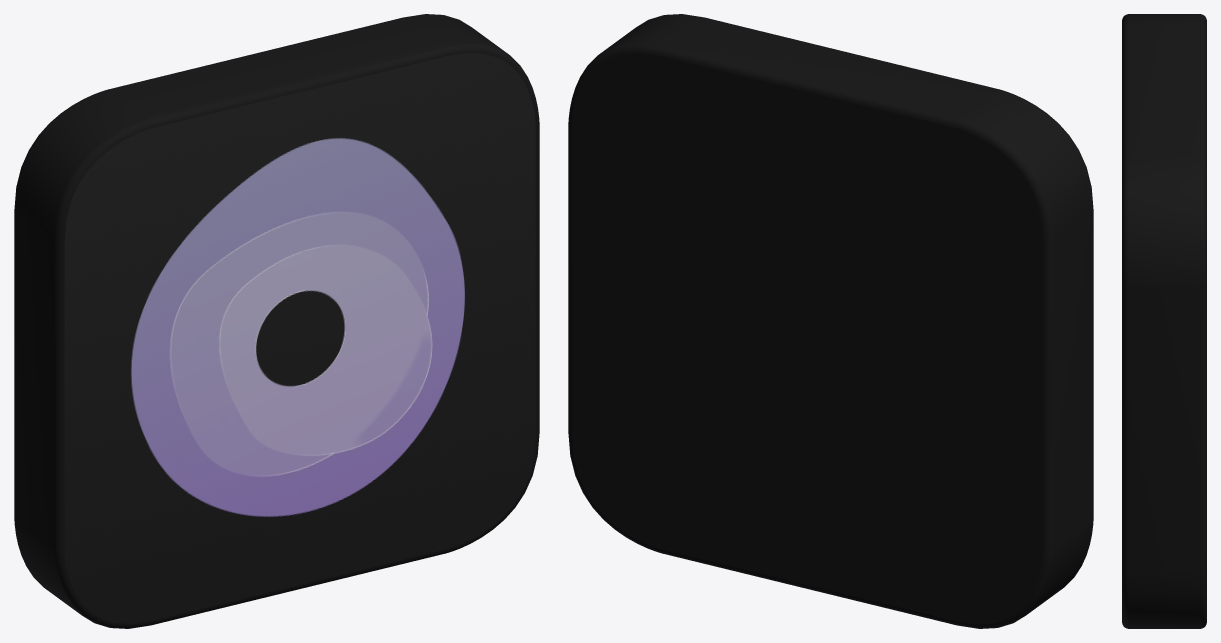
The model's file is icon_sileo_3d_dark.glb.
3 renders of one model, left to right at view 1: azimuth 30°, elevation 25°; view 2: azimuth 150°, elevation 25°; view 3: azimuth 270°, elevation 25°, orthographic. The views are drawn at different scales.
Parts seen in each view (by area): view 1: Curve; view 2: Curve; view 3: Curve.
Part boxes in pixels (box(x1,y1,x2,y2)): Curve: box(14, 14, 539, 628); Curve: box(568, 14, 1093, 628); Curve: box(1122, 14, 1206, 628).
Bounding box in the file's own units: 0.1445 × 0.1445 × 0.024.
2 materials, 1 textured.
